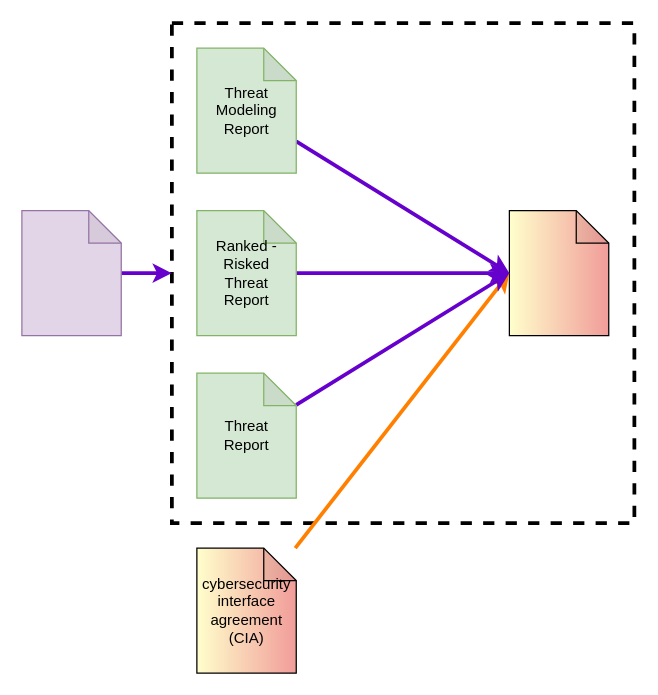
The diagram is 658 pixels wide and 695 high, and some of its shapes have lost their labels. Here are the shapes that lost their labels. From the top down, the centre of each, then its label:
pixel 71 272: Understanding TARA in an AVCDL Context
pixel 558 272: threat analysis risk assessment (TARA)
